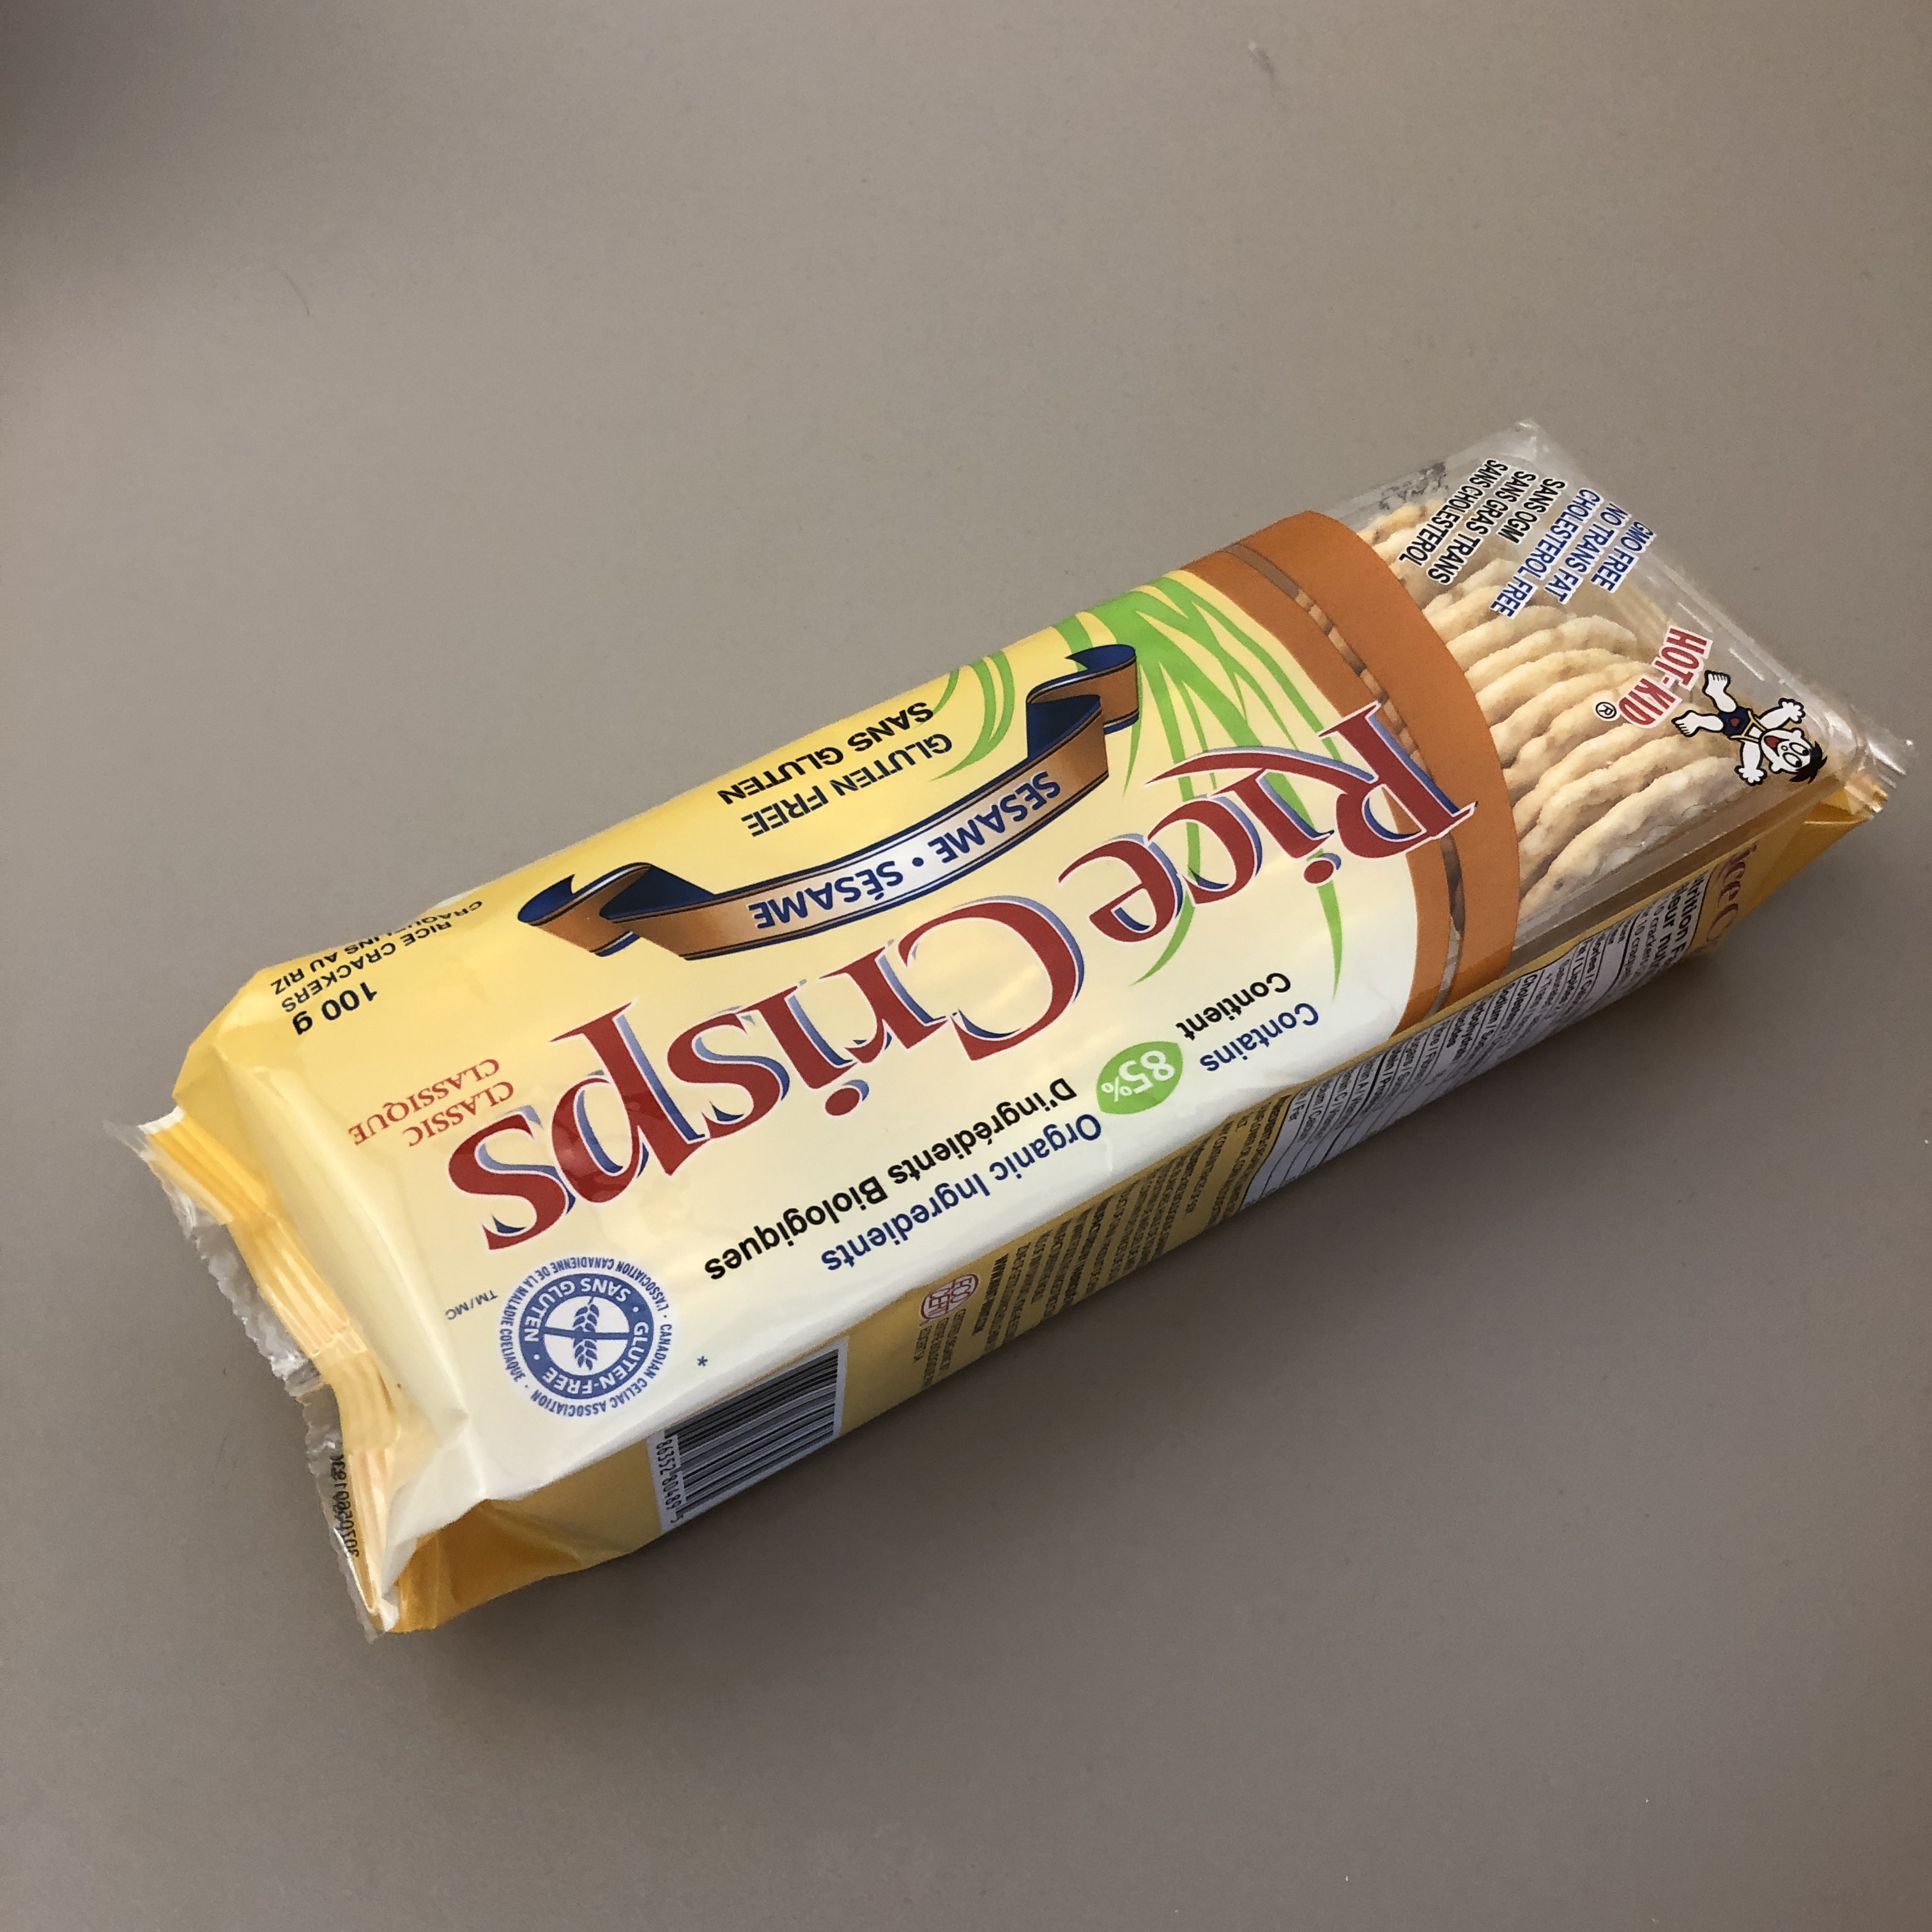hot_kid_rice_crisps_sesame: (507, 165, 1330, 1675)
